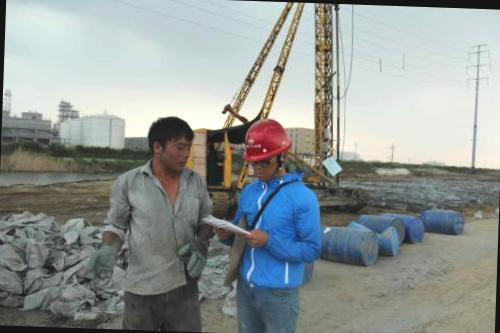no_helmet: (142, 111, 200, 178)
